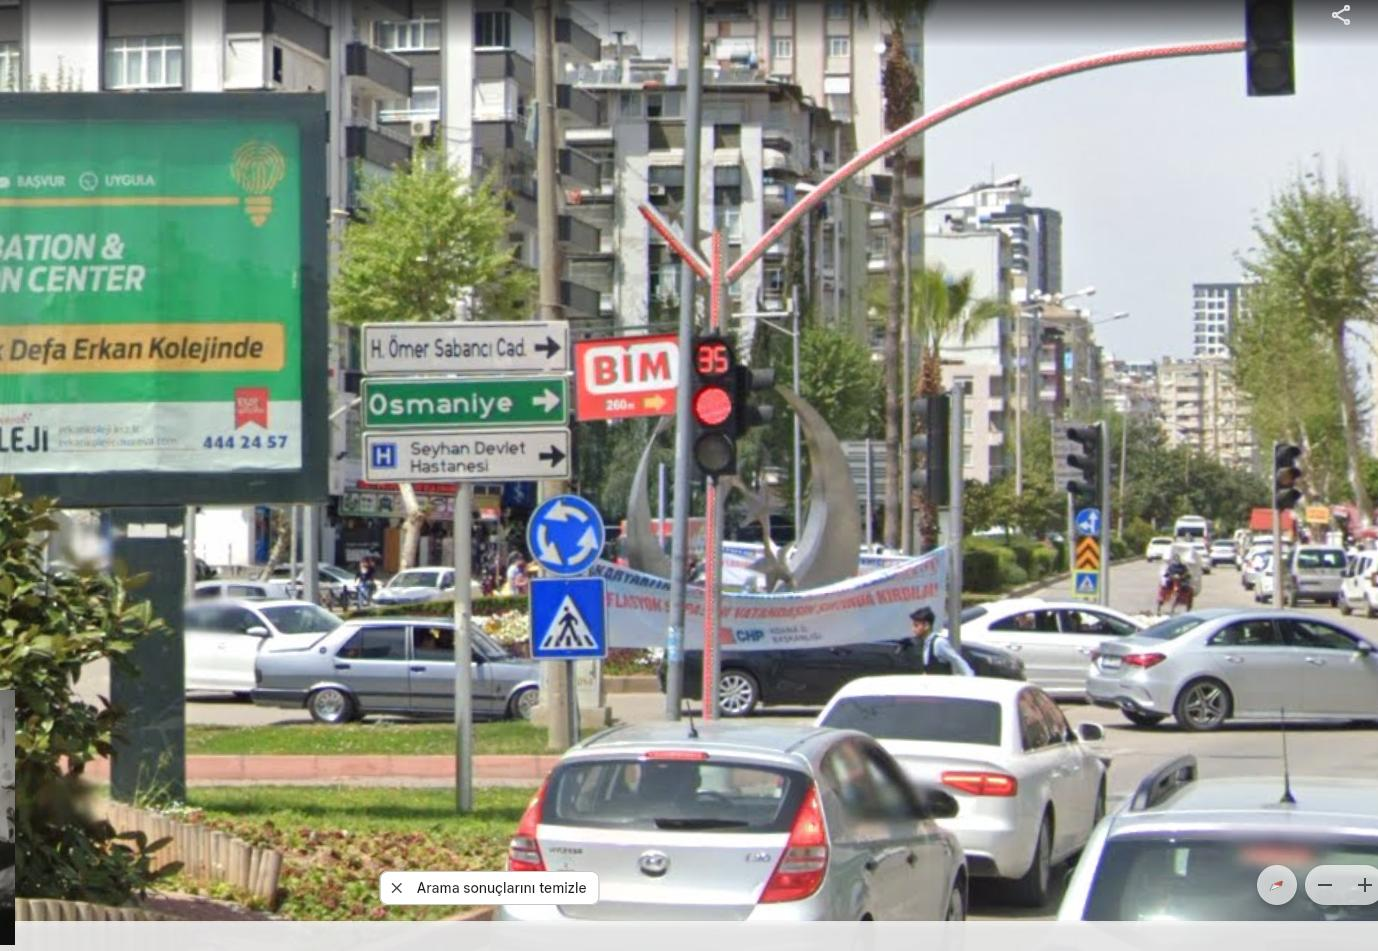crossroads: (528, 499, 604, 575)
redlight: (692, 336, 734, 475)
